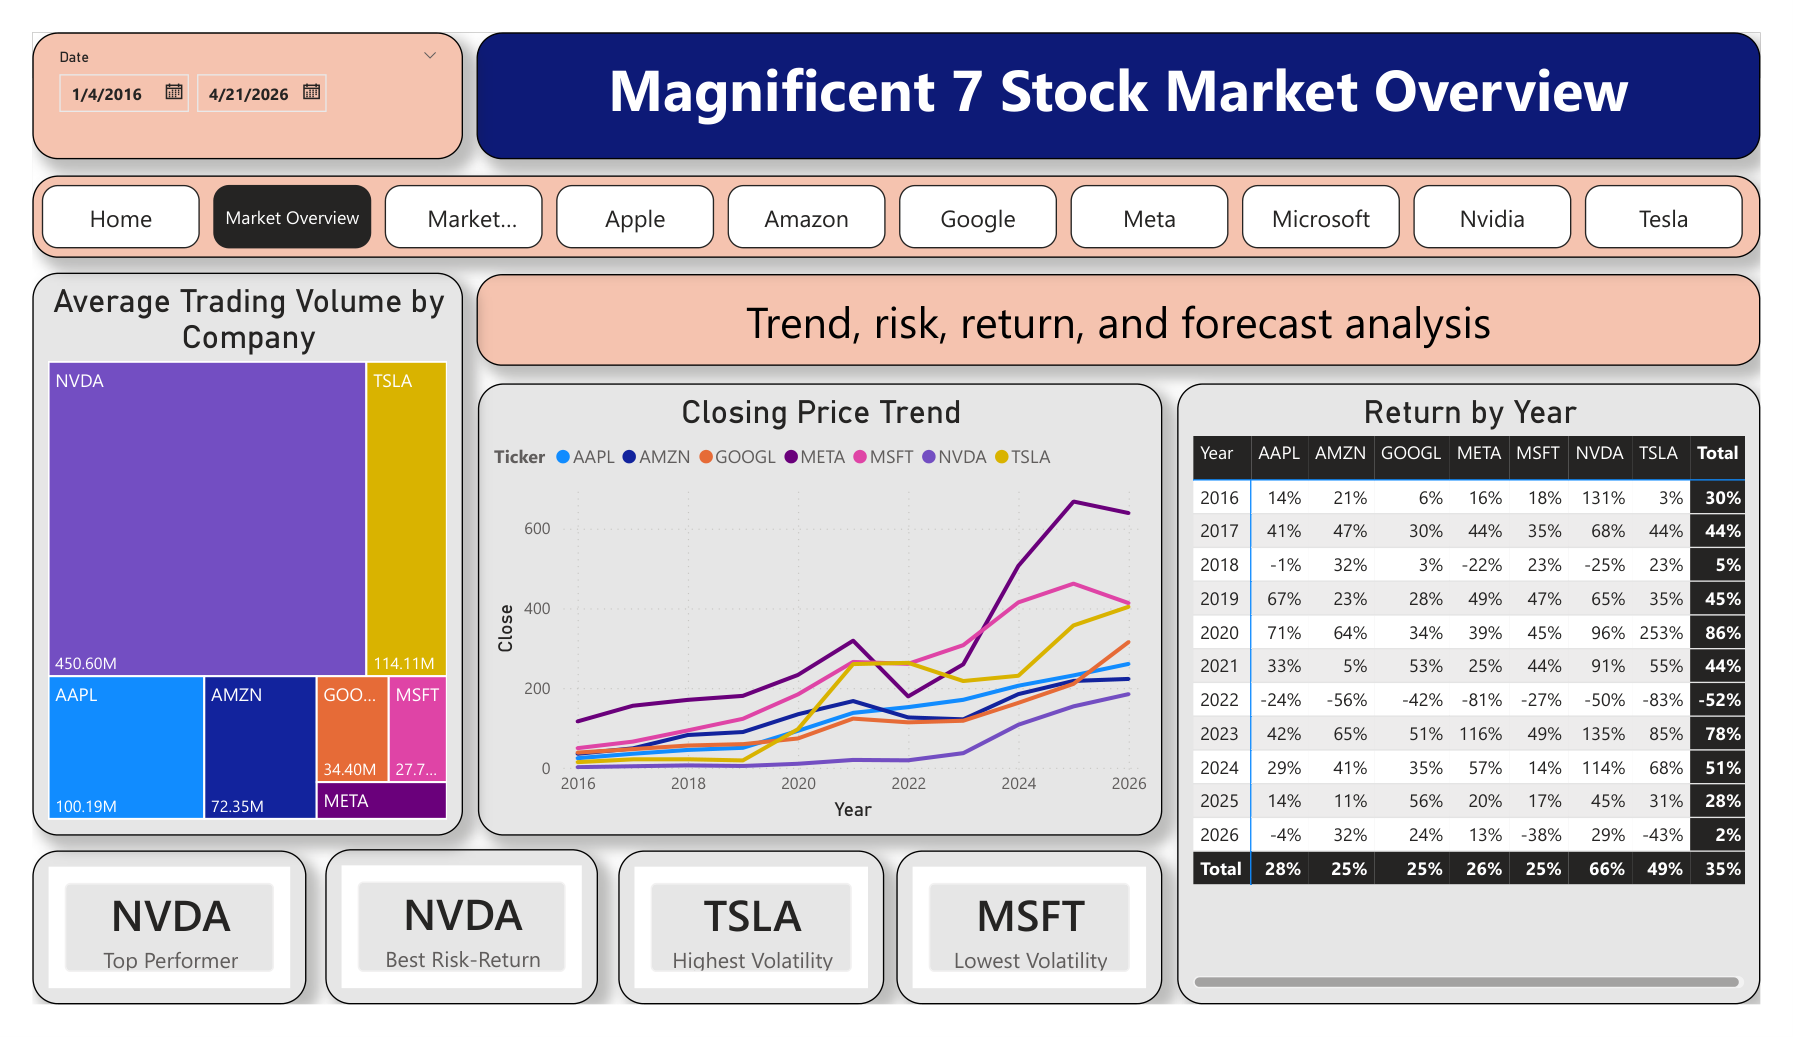

The dashboard page shown, as its layout file describes it:
{"tool":"powerbi","page":{"name":"Market Overview","canvas":[1280,720],"ordinal":1},"visuals":[{"type":"textbox","box":[328.6,0,951.4,94.3],"z":0},{"type":"textbox","box":[328.6,178.6,951.4,68.6],"z":1000},{"type":"lineChart","title":"Closing Price Trend","fields":{"Category":["DateTable.Date.Variation.Date Hierarchy.Year","DateTable.Date.Variation.Date Hierarchy.Quarter","DateTable.Date.Variation.Date Hierarchy.Month","DateTable.Date.Variation.Date Hierarchy.Day"],"Y":["Avg(mag7_powerbi_ready.Close)"],"Series":["mag7_powerbi_ready.Ticker"]},"box":[329.7,260.3,506.9,334.6],"z":2000},{"type":"slicer","fields":{"Values":["DateTable.Date"]},"box":[0,0,318.6,94.3],"z":3000},{"type":"cardVisual","fields":{"Data":["DateTable.Top Performer"]},"box":[0,606,203.3,114],"z":4000},{"type":"cardVisual","fields":{"Data":["DateTable.Best Risk-Return"]},"box":[216.9,604.8,202,115.3],"z":5000},{"type":"treemap","title":"Average Trading Volume by Company","fields":{"Group":["mag7_powerbi_ready.Ticker"],"Values":["mag7_powerbi_ready.Average Volume"]},"box":[0,178.5,318.5,416.4],"z":6000},{"type":"pageNavigator","box":[0,105.7,1280,61.4],"z":7000},{"type":"cardVisual","fields":{"Data":["mag7_powerbi_ready.Highest Volatility"]},"box":[433.8,606,197.1,114],"z":8000},{"type":"cardVisual","fields":{"Data":["DateTable.Lowest Volatility"]},"box":[639.5,606,197.1,114],"z":9000},{"type":"pivotTable","title":"Return by Year","fields":{"Rows":["DateTable.Year"],"Values":["mag7_powerbi_ready.Annualized Return %"],"Columns":["mag7_powerbi_ready.Ticker"]},"box":[847.7,260.3,432.5,459.8],"z":10000}]}

Visuals, with their boxes in screenshot pixels (x1, y1, x2, y2), scaled from the page's 1280x720 canvas onto the 1793x1037 screenshot:
textbox: detection(460, 0, 1792, 136)
textbox: detection(460, 257, 1792, 356)
"Closing Price Trend" lineChart: detection(462, 375, 1172, 857)
slicer - DateTable.Date: detection(0, 0, 446, 136)
cardVisual - DateTable.Top Performer: detection(0, 873, 285, 1036)
cardVisual - DateTable.Best Risk-Return: detection(304, 871, 587, 1036)
"Average Trading Volume by Company" treemap: detection(0, 257, 446, 857)
pageNavigator: detection(0, 152, 1792, 241)
cardVisual - mag7_powerbi_ready.Highest Volatility: detection(608, 873, 884, 1036)
cardVisual - DateTable.Lowest Volatility: detection(896, 873, 1172, 1036)
"Return by Year" pivotTable: detection(1187, 375, 1792, 1036)
